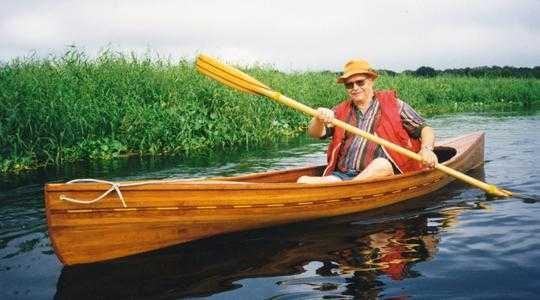kayak: (45, 136, 485, 269)
